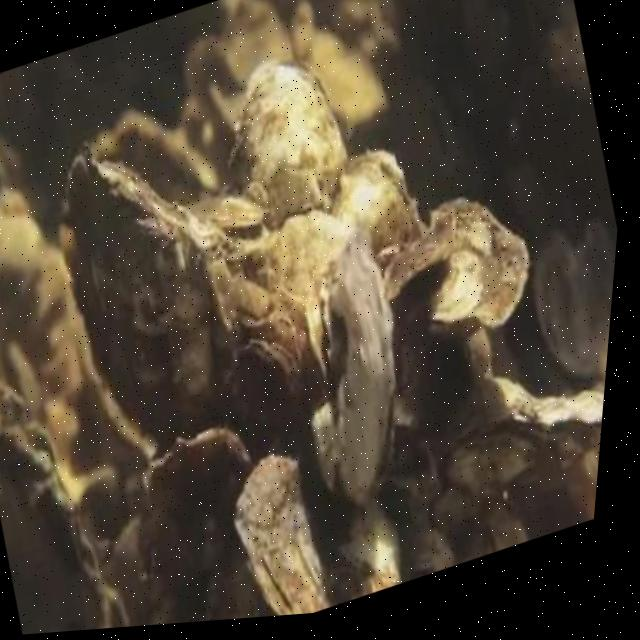Oyster-Closed: (231, 337, 298, 437), (519, 388, 604, 440), (307, 281, 345, 394), (422, 96, 463, 165), (572, 426, 601, 513)
Oyster-Indeterminate: (61, 157, 230, 454), (0, 379, 127, 634), (221, 59, 349, 226), (329, 228, 395, 503), (238, 453, 340, 616), (145, 427, 251, 573), (419, 200, 531, 328), (95, 113, 213, 203), (251, 210, 353, 297), (335, 152, 417, 246), (307, 28, 384, 120), (386, 208, 454, 306), (227, 4, 297, 78), (341, 494, 401, 579), (449, 434, 535, 491), (188, 37, 242, 105), (200, 197, 266, 229), (212, 83, 239, 136), (291, 5, 313, 62)
